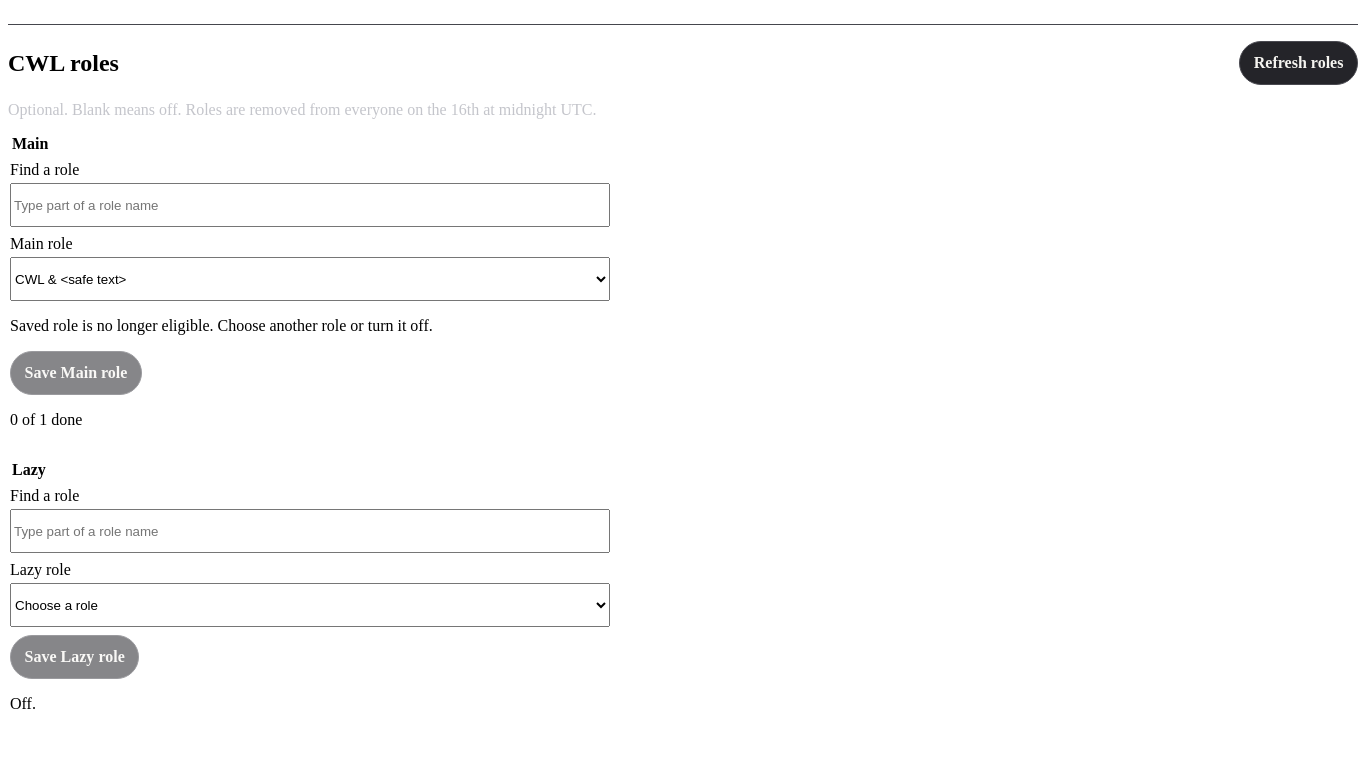
shows the saved name immediately and retains it through local progress polling
The image size is (1366, 768).
Select "Choose a role" in the dropdown labelled "Main role" at (310, 279), box [10,257,610,301]
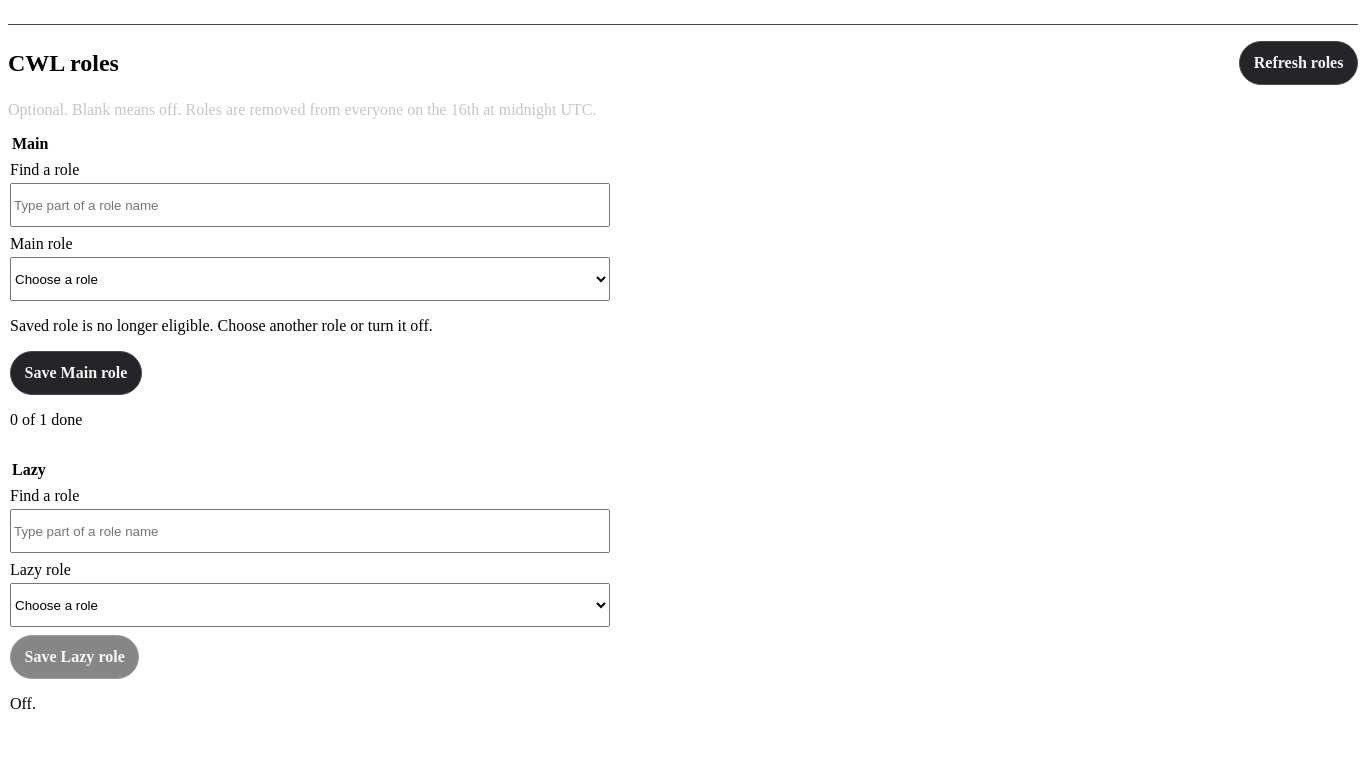
Expected: the button "Save Main role" is enabled, [10,351,142,395]
